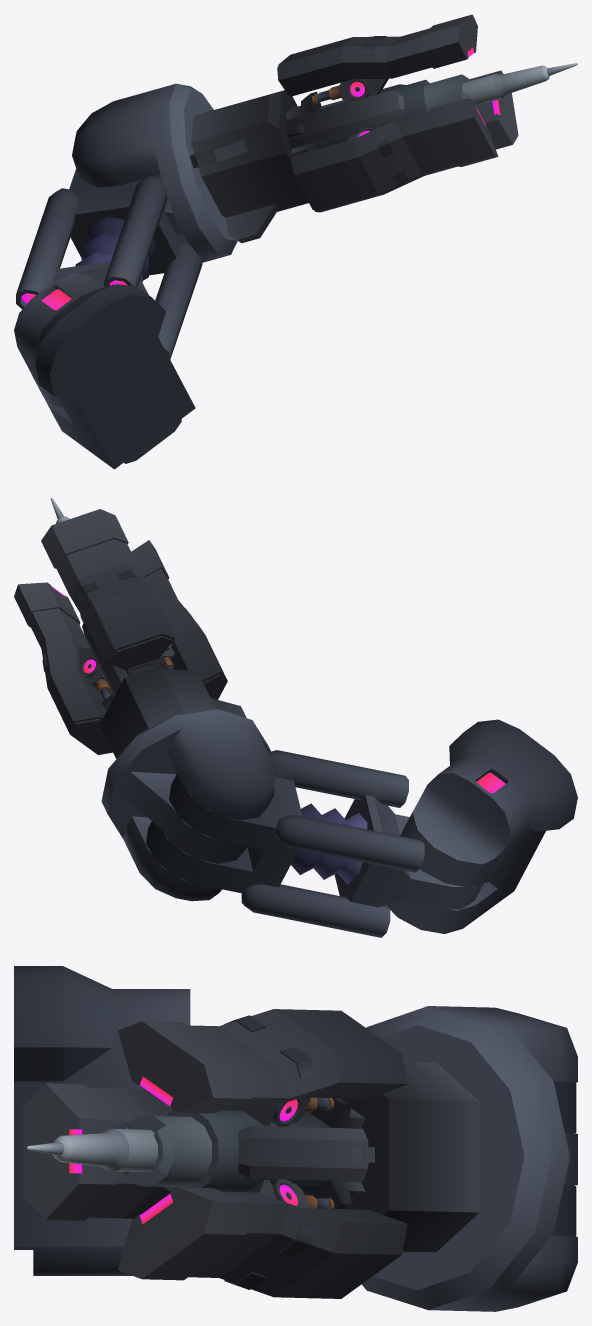
Rendered from weapon_02.fbx.
3 renders of one model, top to bottom at view 1: azimuth 30°, elevation 25°; view 2: azimuth 150°, elevation 25°; view 3: azimuth 270°, elevation 25°, orthographic. The views are drawn at different scales.
Visible parts, largest first — view 1: Cube.015, Cube.021, Cube.022, Cube.014, Cube.019, Cube.018, Cylinder.011, Circle.010, Cube.016, Cylinder.009, Cylinder, Cylinder.002 (+2 smaller); view 2: Cube.021, Cube.015, Cube.022, Cube.018, Cube.016, Cube.019, Cube.014, Circle.010, Cylinder.010; view 3: Cube.022, Cube.016, Cube.018, Cube.015, Cube.019, Cube.014, Cylinder.010, Cylinder, Cylinder.009, Cylinder.002, Cube.021, Cylinder.001 (+4 smaller).
Part boxes in pixels (x1,y1,x2,y2): Cube.015: (14,272,195,469); Cube.021: (16,169,202,406); Cube.022: (72,83,237,262); Cube.014: (290,98,498,212); Cube.019: (190,90,308,243); Cube.018: (277,14,477,96); Cylinder.011: (285,90,404,148); Circle.010: (75,217,154,282); Cube.016: (470,70,518,149); Cylinder.009: (293,79,429,148); Cylinder: (423,74,470,110); Cylinder.002: (494,65,549,98); Cube.021: (146,750,483,937); Cube.015: (386,719,577,933); Cube.022: (101,709,274,901); Cube.018: (41,509,175,669); Cube.016: (14,582,112,754); Cube.019: (99,668,246,758); Cube.014: (131,540,227,699); Circle.010: (291,803,367,884); Cylinder.010: (82,622,127,696); Cube.022: (361,1006,577,1311); Cube.016: (118,1180,407,1298); Cube.018: (118,1009,407,1125); Cube.015: (14,966,190,1275); Cube.019: (341,1062,479,1252); Cube.014: (23,1083,173,1220); Cylinder.010: (238,1126,374,1181); Cylinder: (123,1116,211,1186); Cylinder.009: (163,1110,353,1195); Cylinder.002: (53,1129,128,1171); Cube.021: (551,1081,576,1236); Cylinder.001: (113,1129,157,1171).
Size of the model in its own units: 596 by 349 by 325.
